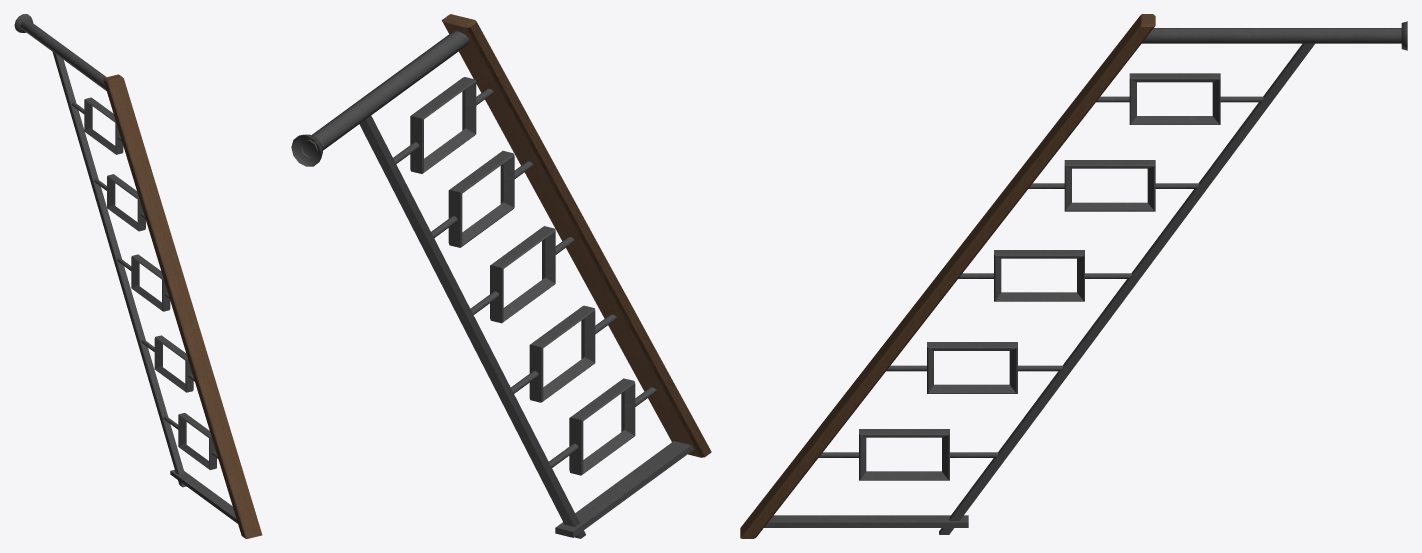
Rendered from nt_2020_house_01_railing_01_LOD0.obj.
The picture shows the model from 3 angles, left to right: view 1: azimuth 30°, elevation 25°; view 2: azimuth 150°, elevation 25°; view 3: azimuth 270°, elevation 25°; orthographic projection. The views are drawn at different scales.
Parts seen in each view (by area): view 1: metal_chrome_boat, nt_2020_wood_01; view 2: metal_chrome_boat, nt_2020_wood_01; view 3: metal_chrome_boat, nt_2020_wood_01.
Boxes of the visible parts, box(x1,y1,x2,y2) form: metal_chrome_boat: box(14, 14, 237, 523); nt_2020_wood_01: box(103, 74, 262, 538); metal_chrome_boat: box(291, 31, 693, 538); nt_2020_wood_01: box(442, 14, 711, 457); metal_chrome_boat: box(764, 21, 1407, 534); nt_2020_wood_01: box(740, 14, 1155, 538).
Bounding box in the file's own units: 12.16 × 233 × 275.
